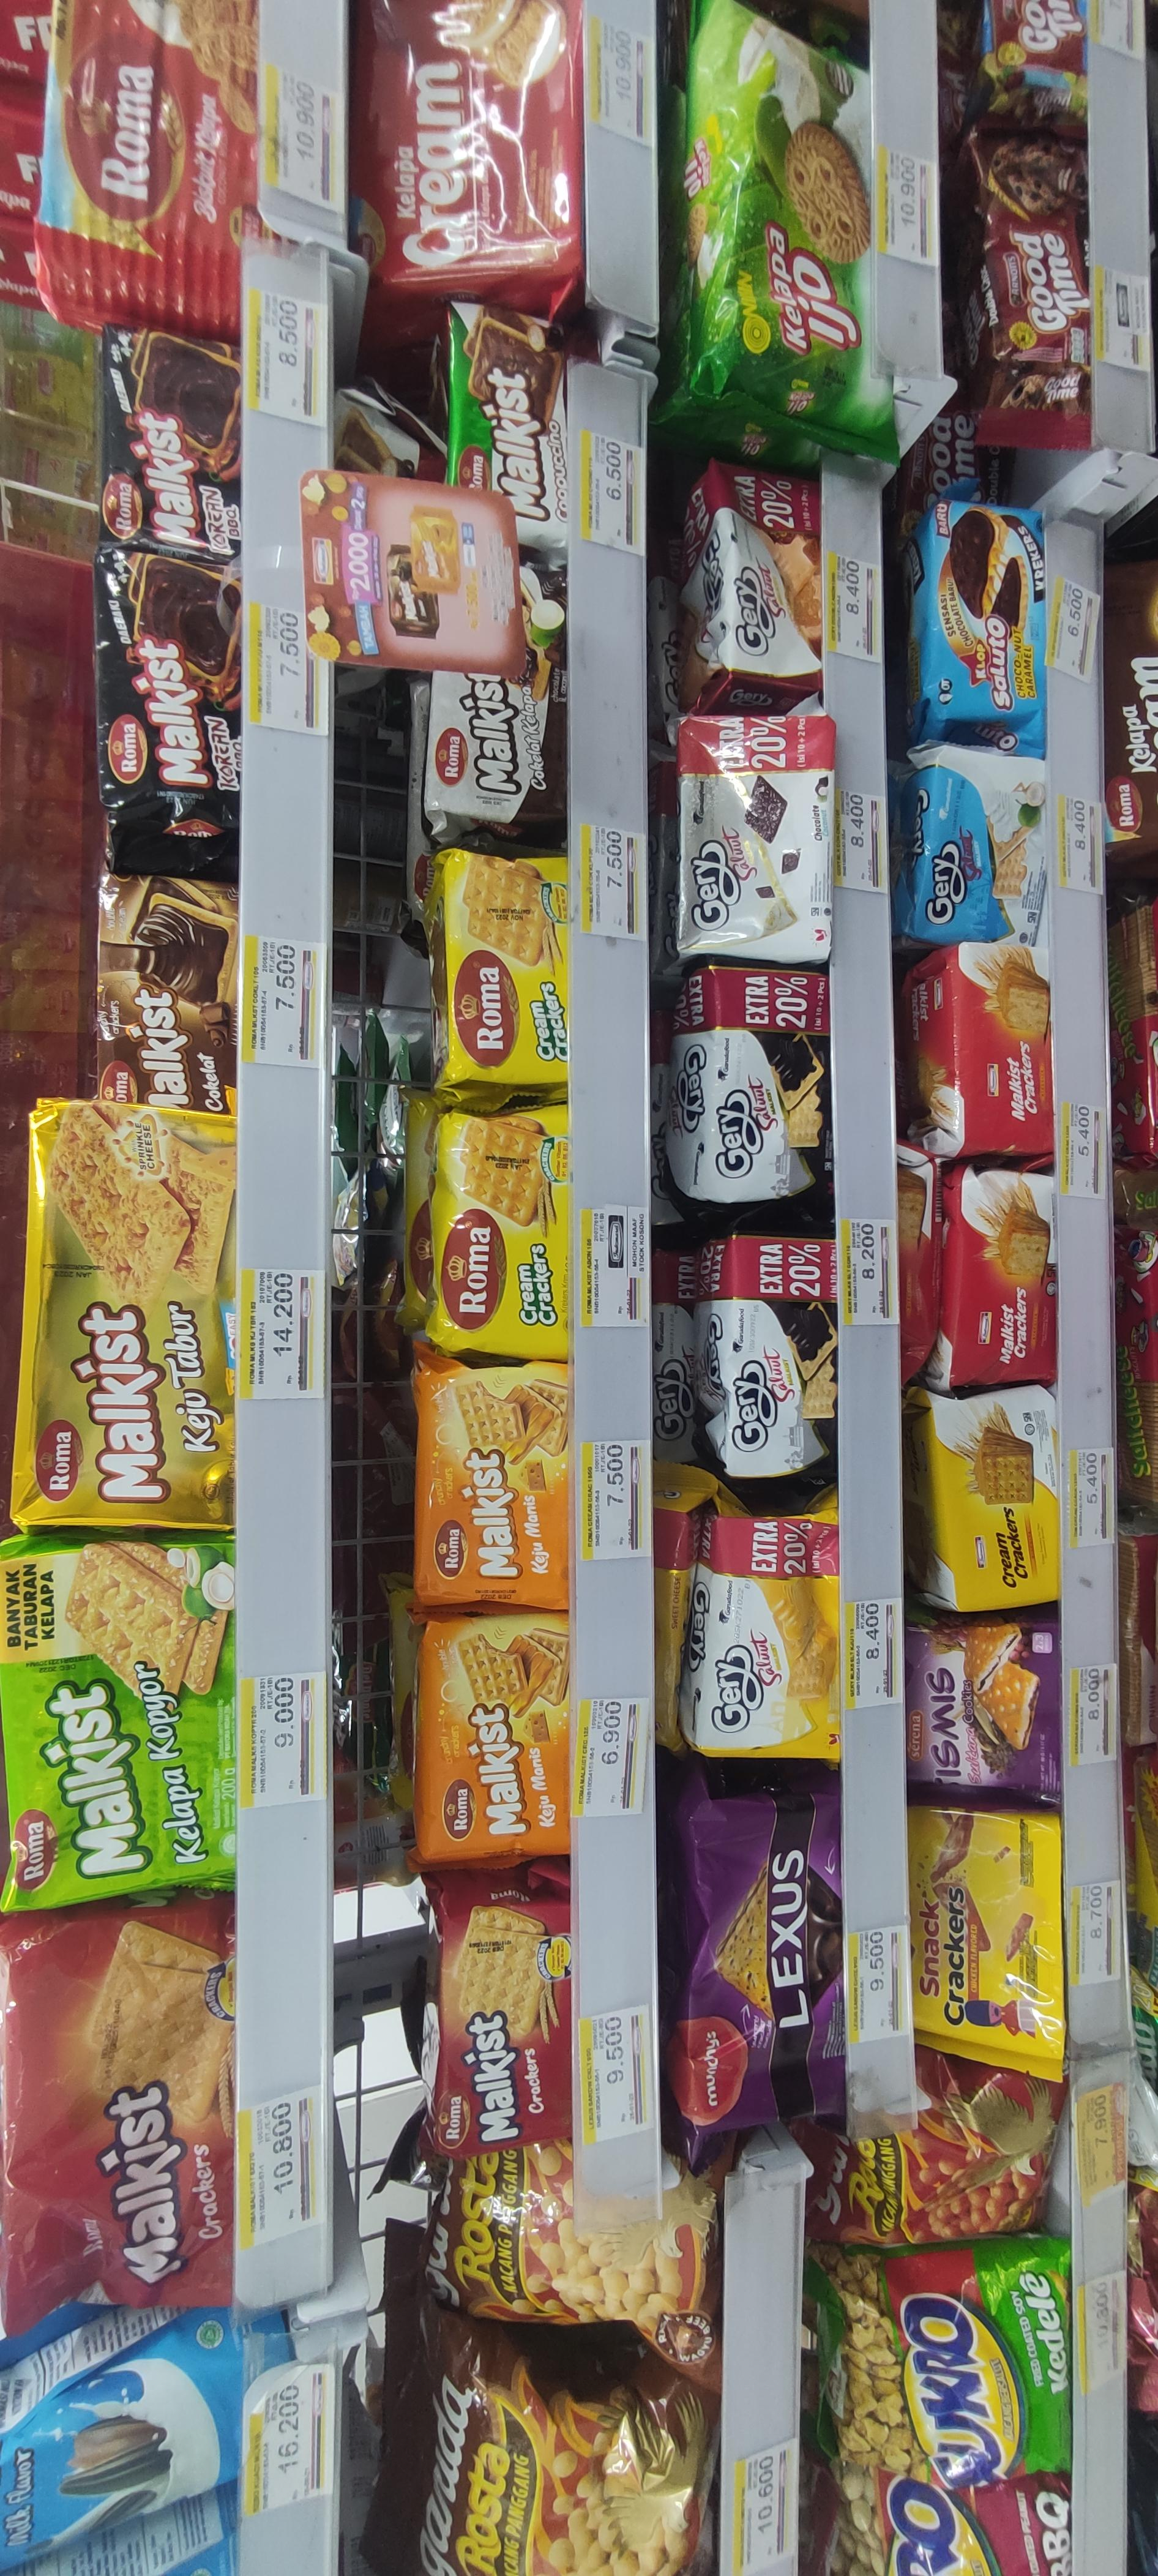90101111611100: (808, 2081, 1064, 2241)
90101111615100: (389, 2356, 711, 2576), (424, 2146, 721, 2362)
90101225205101: (687, 1513, 841, 1753), (690, 964, 834, 1203), (706, 1235, 836, 1479)
90101225209100: (917, 757, 1048, 943)
90101225218101: (677, 716, 829, 955)
90101225226101: (708, 458, 821, 683)
ArnottsGoodTime: (971, 120, 1092, 432)
DuaKelinciSukroKacangBersalut: (800, 2241, 1071, 2487)
IndomaretMalkistCrackers: (943, 1168, 1055, 1383), (948, 941, 1053, 1150)
IndomaretMalkistCreamCrackers: (921, 1390, 1061, 1608)
KlopSalutoChocoNutCaramel: (926, 501, 1050, 718)
MunchysLexus: (678, 1789, 848, 2129)
NissinBiskuitKelapaIjo: (682, 0, 869, 396)
RomaMalkistCappucino: (447, 301, 567, 488)
RomaMalkistCokelat: (99, 869, 238, 1112)
RomaMalkistCrackers: (0, 1912, 233, 2308), (435, 1871, 580, 2141)
RomaMalkistCreamCrackers: (432, 1112, 570, 1355), (442, 851, 570, 1083)
RomaMalkistKejuManis: (414, 1359, 575, 1605), (414, 1612, 572, 1861)
RomaMalkistKejuTabur: (10, 1101, 237, 1525)
RomaMalkistKelapaKopyor: (0, 1539, 235, 1907)
RomaMalkistKoreanBBQ: (92, 550, 241, 838), (99, 325, 241, 565)
SerenaKismisSultanaCookies: (903, 1617, 1063, 1807)
SerenaSnackCrackersChickenFlavored: (907, 1809, 1063, 2065)
